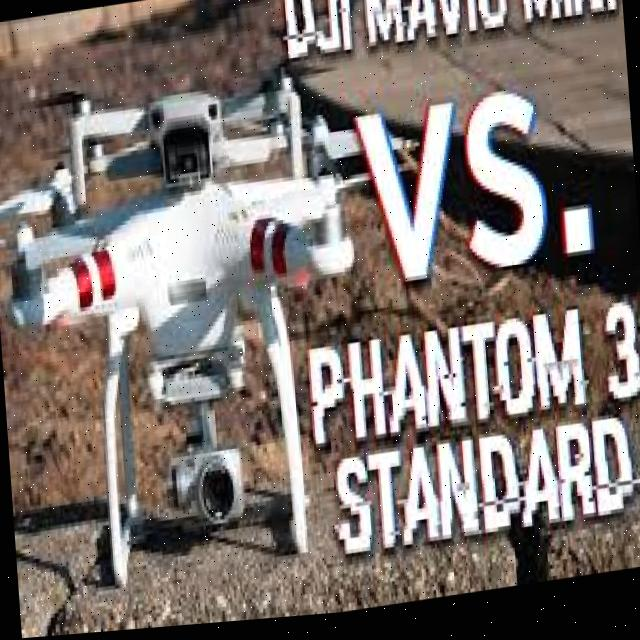drone: (0, 132, 399, 600), (63, 61, 322, 218)
